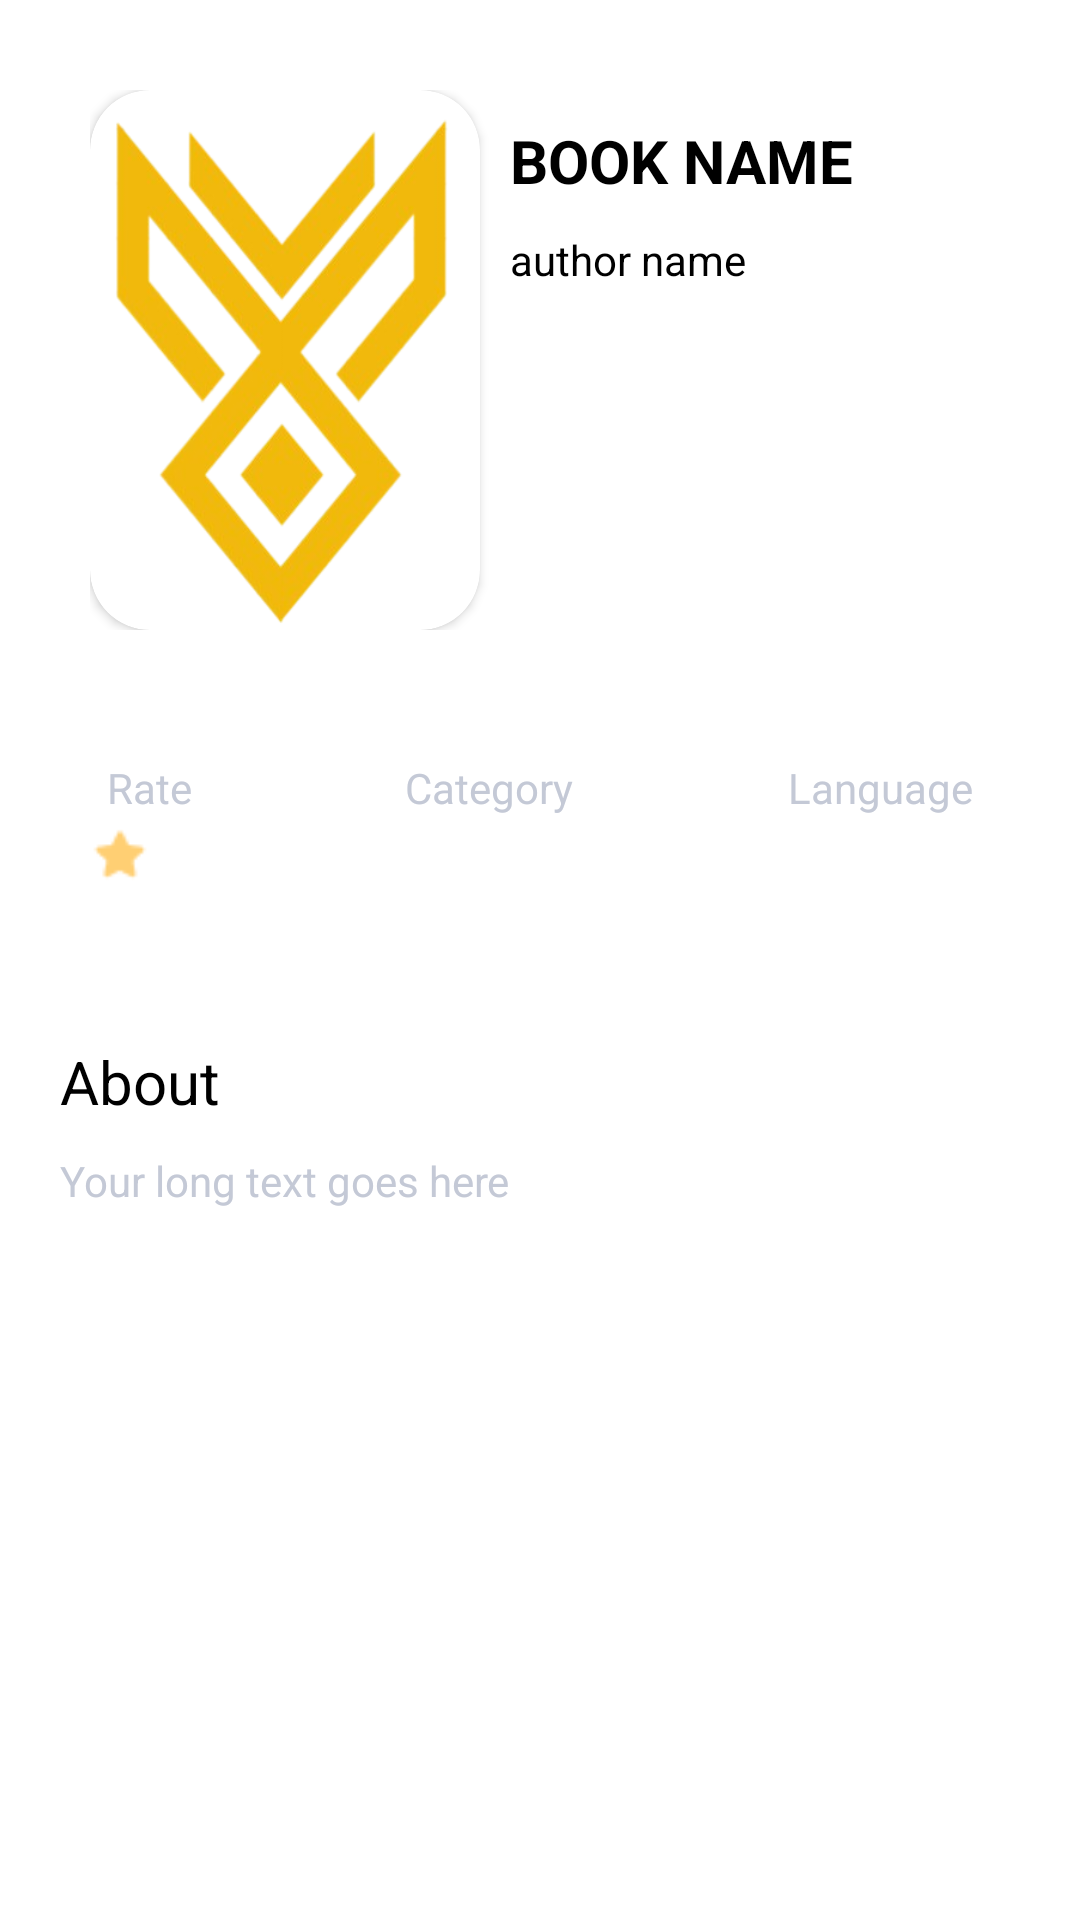

Named icons in this screenshot (1080px x 1920px) and their centers, (x=x, y=y):
star: (x=120, y=854)
